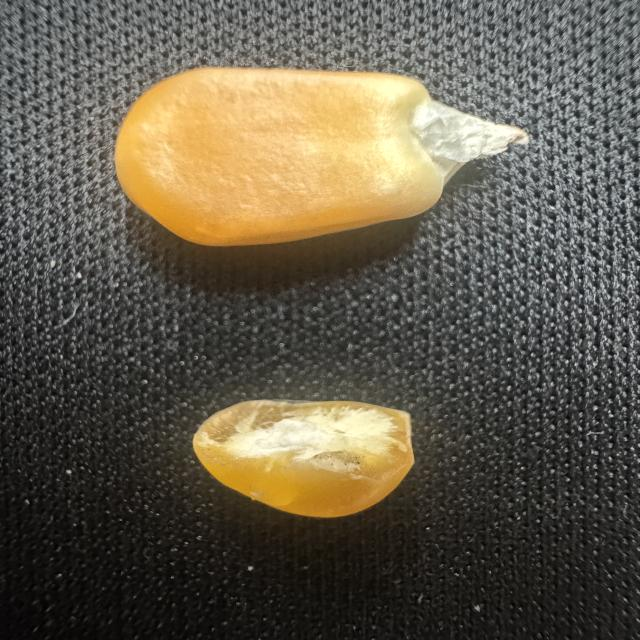Bad-Seed: (182, 386, 421, 525)
Good-Seed: (106, 58, 545, 256)
